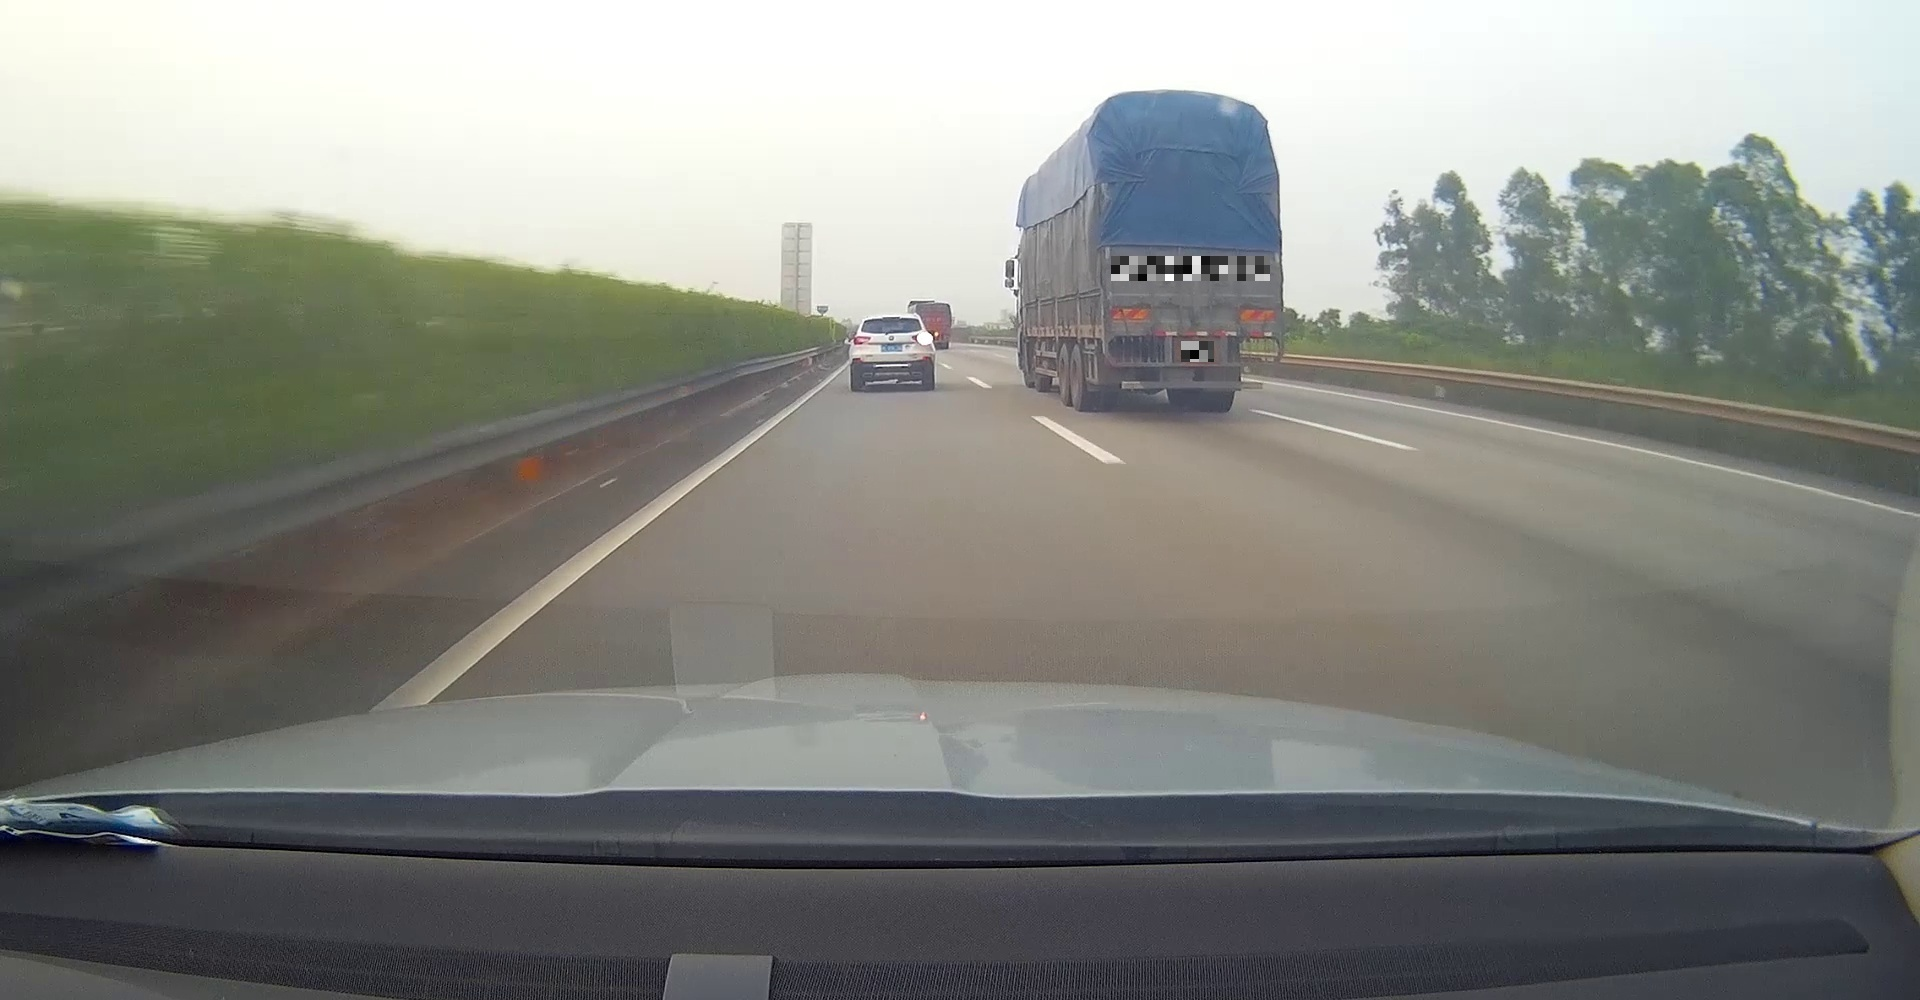L_light: (1106, 355, 1139, 367), (852, 336, 871, 345)
R_light: (1233, 357, 1263, 368), (910, 332, 932, 343)
T_light: (1178, 294, 1211, 305), (883, 316, 902, 320)
day-no: (1086, 88, 1284, 412)
day-right: (850, 312, 936, 391)
plate_1: (1111, 256, 1270, 280)
plate_2: (1181, 341, 1214, 362)
